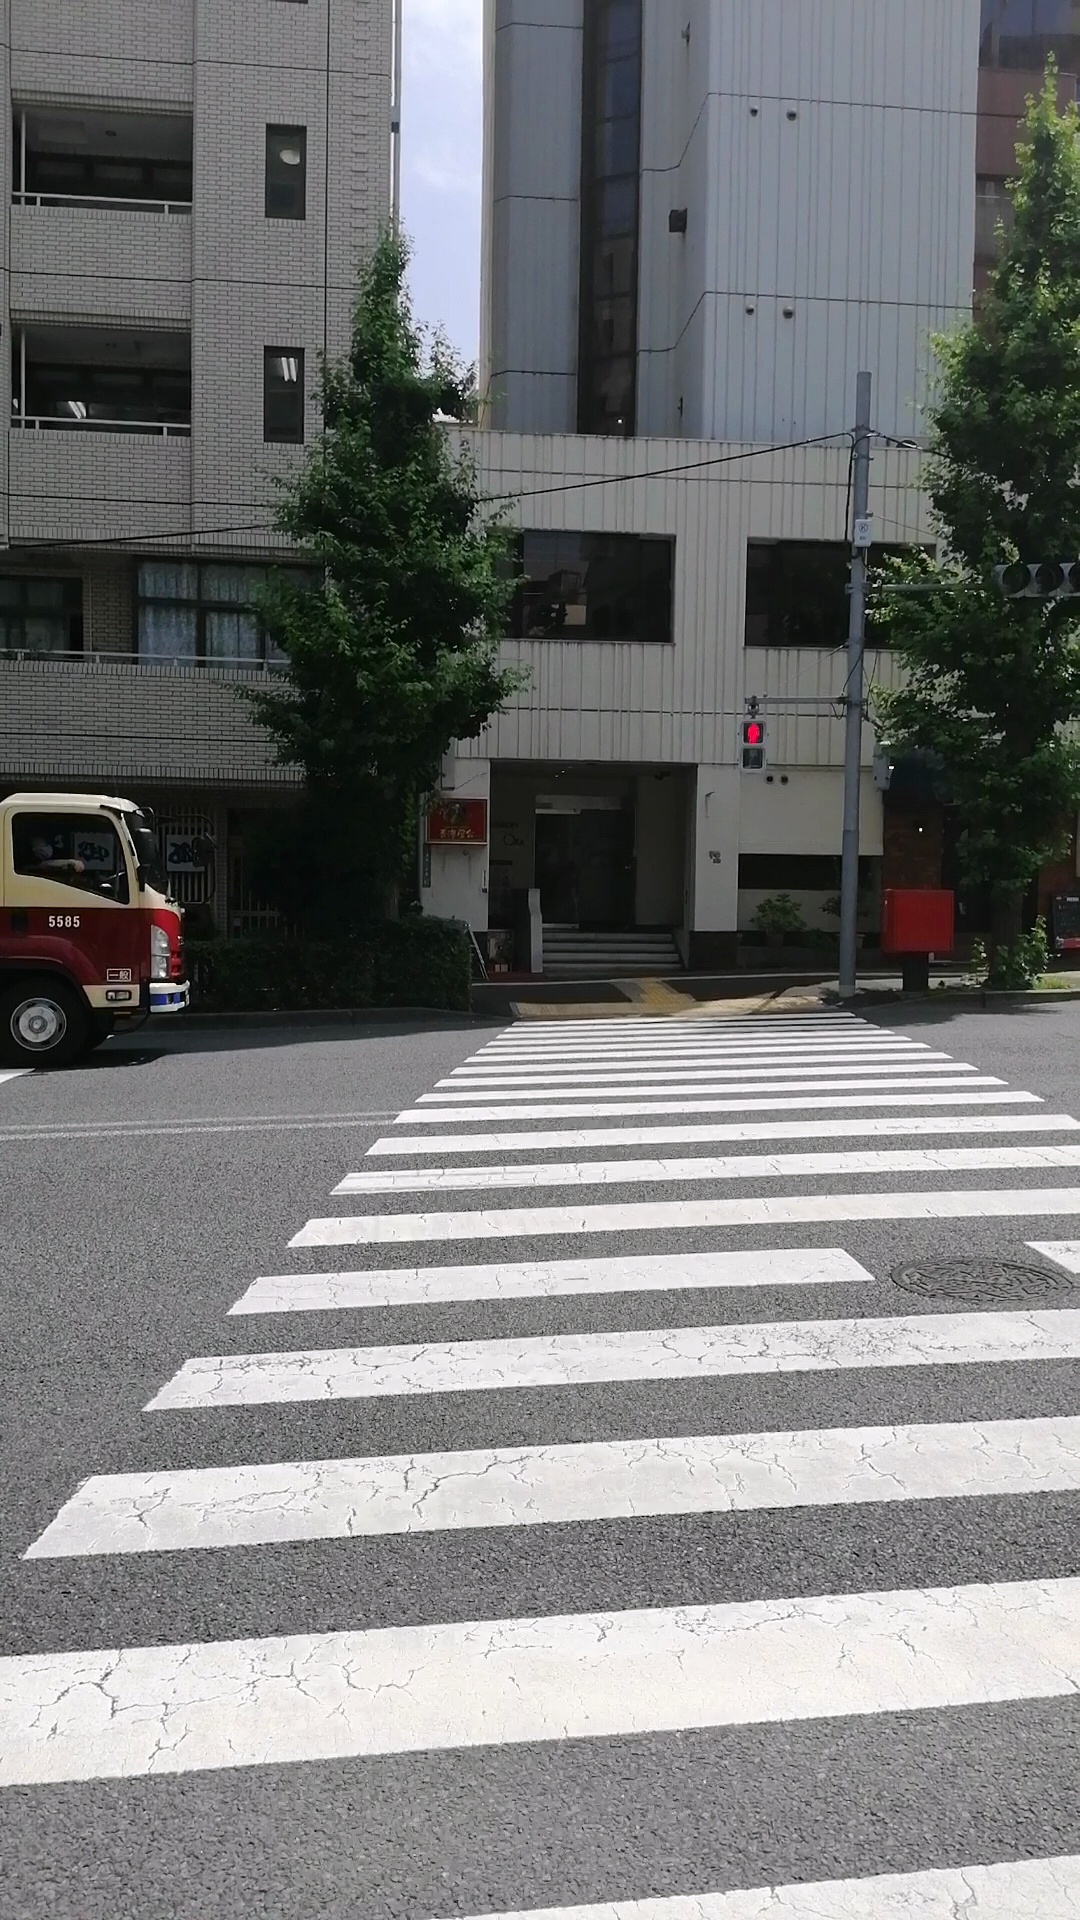red: (738, 721, 765, 771)
